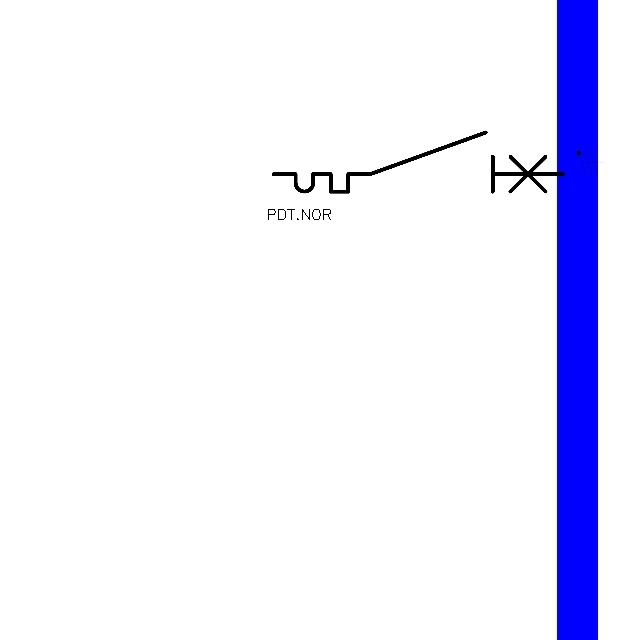interruptor_termomagnetico: (266, 125, 570, 199)
